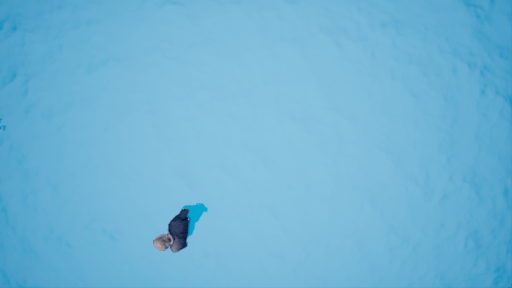person: (142, 198, 220, 256)
